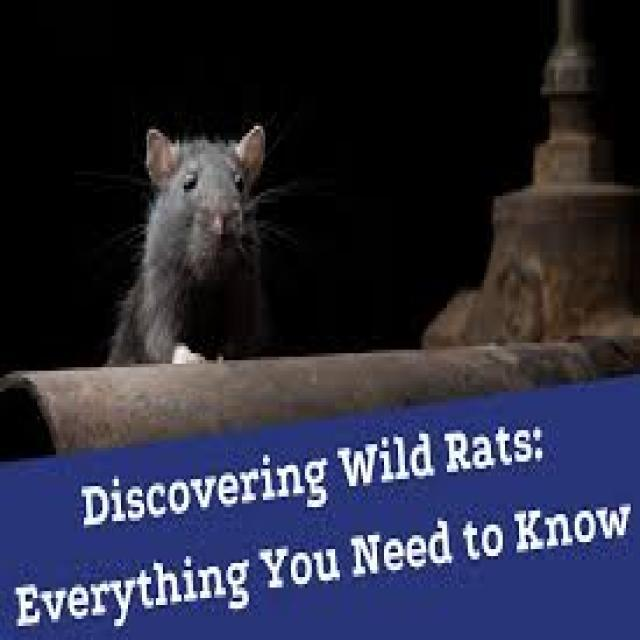Rat: (114, 96, 294, 396)
